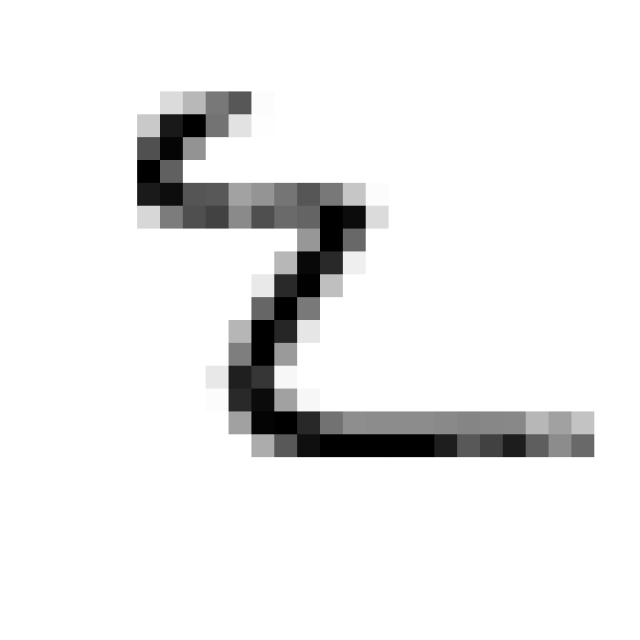4 -four-: (117, 76, 614, 486)
